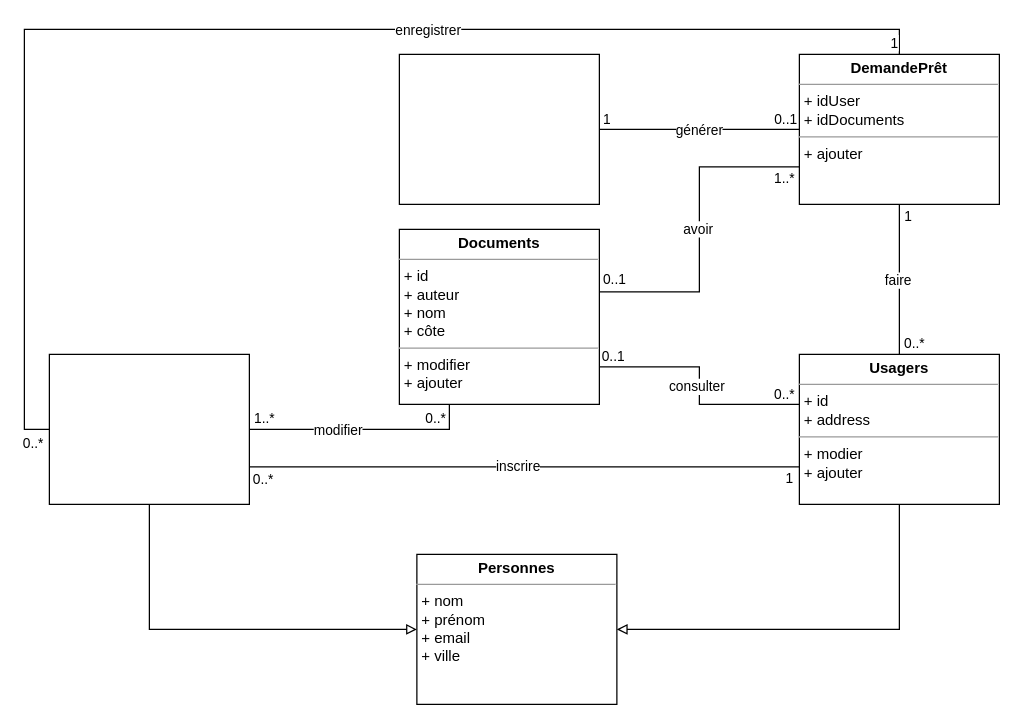
This 1021x726 diagram has some shape labels left out. Here are the shapes that lost their labels. From the top down, the centre of each, then its label:
pixel 498 128: Prêt + id + dateAjout + ajouter
pixel 148 428: Employés + id + rôle
